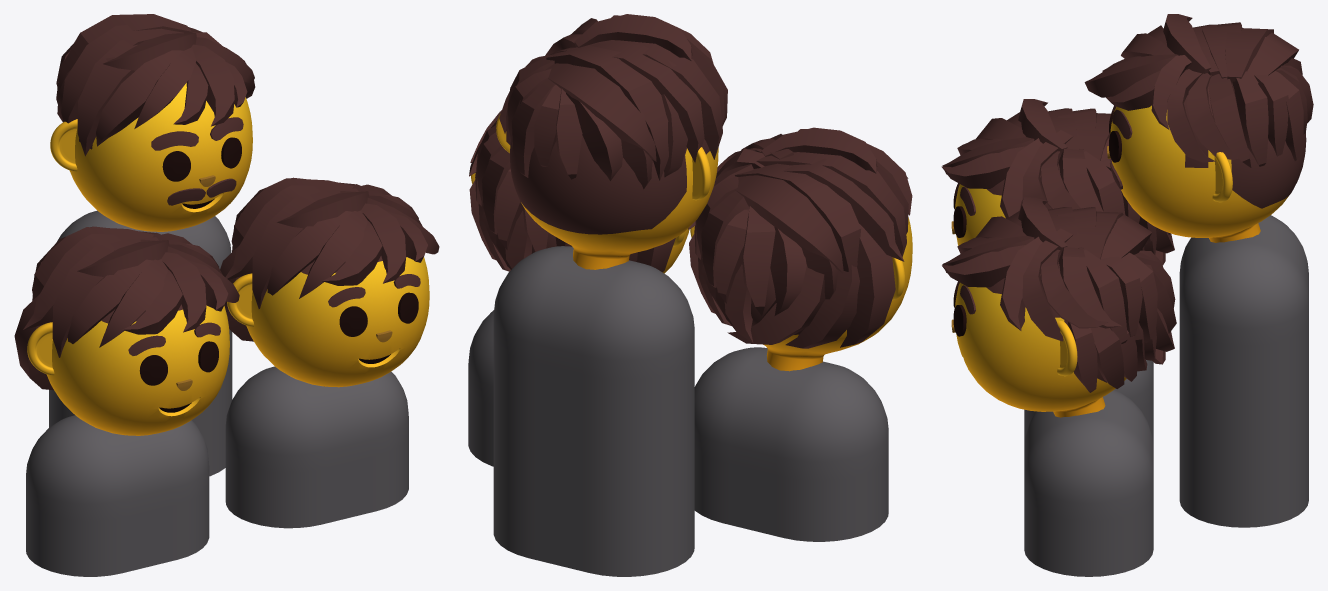
Rendered from Family__Man_Boy_Boy.gltf.
The picture shows the model from 3 angles, left to right: view 1: azimuth 30°, elevation 25°; view 2: azimuth 150°, elevation 25°; view 3: azimuth 270°, elevation 25°; orthographic projection. The views are drawn at different scales.
Visible parts, largest first — view 1: Sphere.329, Sphere.331, Cube.5402, Cube.5349, Cube.5381, Roundcube.399, Roundcube.401, Roundcube.400, Sphere.330, Circle.1665, Circle.1668, Circle.1672 (+7 smaller); view 2: Sphere.330, Cube.5402, Sphere.331, Cube.5381, Roundcube.400, Cube.5349, Sphere.329, Roundcube.401, Cylinder.325; view 3: Sphere.330, Cube.5349, Cube.5381, Sphere.329, Cube.5402, Roundcube.400, Roundcube.399, Roundcube.401, Sphere.331, Cylinder.324, Cylinder.325.
Part boxes in pixels (x1=…): Sphere.329: x1=225, y1=366, x2=408, y2=528; Sphere.331: x1=26, y1=415, x2=209, y2=576; Cube.5402: x1=14, y1=226, x2=239, y2=390; Cube.5349: x1=220, y1=177, x2=439, y2=341; Cube.5381: x1=56, y1=14, x2=255, y2=156; Roundcube.399: x1=246, y1=256, x2=429, y2=387; Roundcube.401: x1=46, y1=304, x2=229, y2=435; Roundcube.400: x1=69, y1=83, x2=252, y2=231; Sphere.330: x1=49, y1=210, x2=232, y2=476; Circle.1665: x1=339, y1=292, x2=418, y2=336; Circle.1668: x1=162, y1=137, x2=241, y2=181; Circle.1672: x1=139, y1=341, x2=218, y2=385; Sphere.330: x1=493, y1=246, x2=694, y2=576; Cube.5402: x1=688, y1=127, x2=912, y2=348; Sphere.331: x1=694, y1=347, x2=888, y2=541; Cube.5381: x1=499, y1=14, x2=727, y2=189; Roundcube.400: x1=510, y1=135, x2=718, y2=269; Cube.5349: x1=469, y1=110, x2=675, y2=272; Sphere.329: x1=468, y1=310, x2=494, y2=466; Roundcube.401: x1=763, y1=217, x2=912, y2=371; Cylinder.325: x1=496, y1=114, x2=710, y2=200; Sphere.330: x1=1179, y1=215, x2=1308, y2=527; Cube.5349: x1=942, y1=197, x2=1176, y2=392; Cube.5381: x1=1084, y1=14, x2=1313, y2=167; Sphere.329: x1=1024, y1=389, x2=1153, y2=576; Cube.5402: x1=941, y1=99, x2=1174, y2=265; Roundcube.400: x1=1110, y1=69, x2=1306, y2=242; Roundcube.399: x1=955, y1=262, x2=1126, y2=417; Roundcube.401: x1=955, y1=164, x2=1060, y2=245; Sphere.331: x1=1024, y1=360, x2=1153, y2=446; Cylinder.324: x1=1057, y1=321, x2=1077, y2=376; Cylinder.325: x1=1211, y1=152, x2=1232, y2=202.
Size of the model in its own units: 2.37 by 2.58 by 1.9.
Materials: 6 (2 with a texture image).
